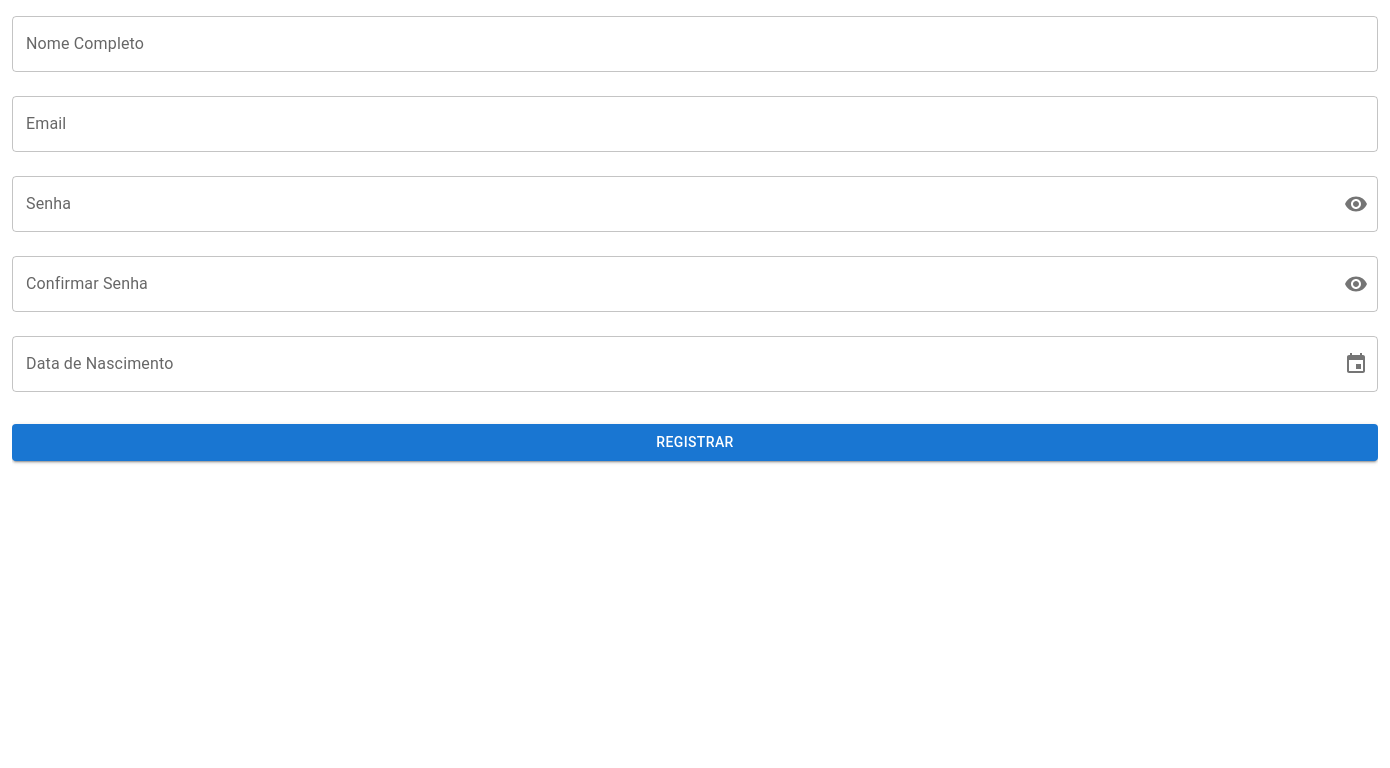
Test: RegisterForm › shows required error when email is empty
Clear the field labelled "Email" at (695, 124), box [12,96,1378,152]
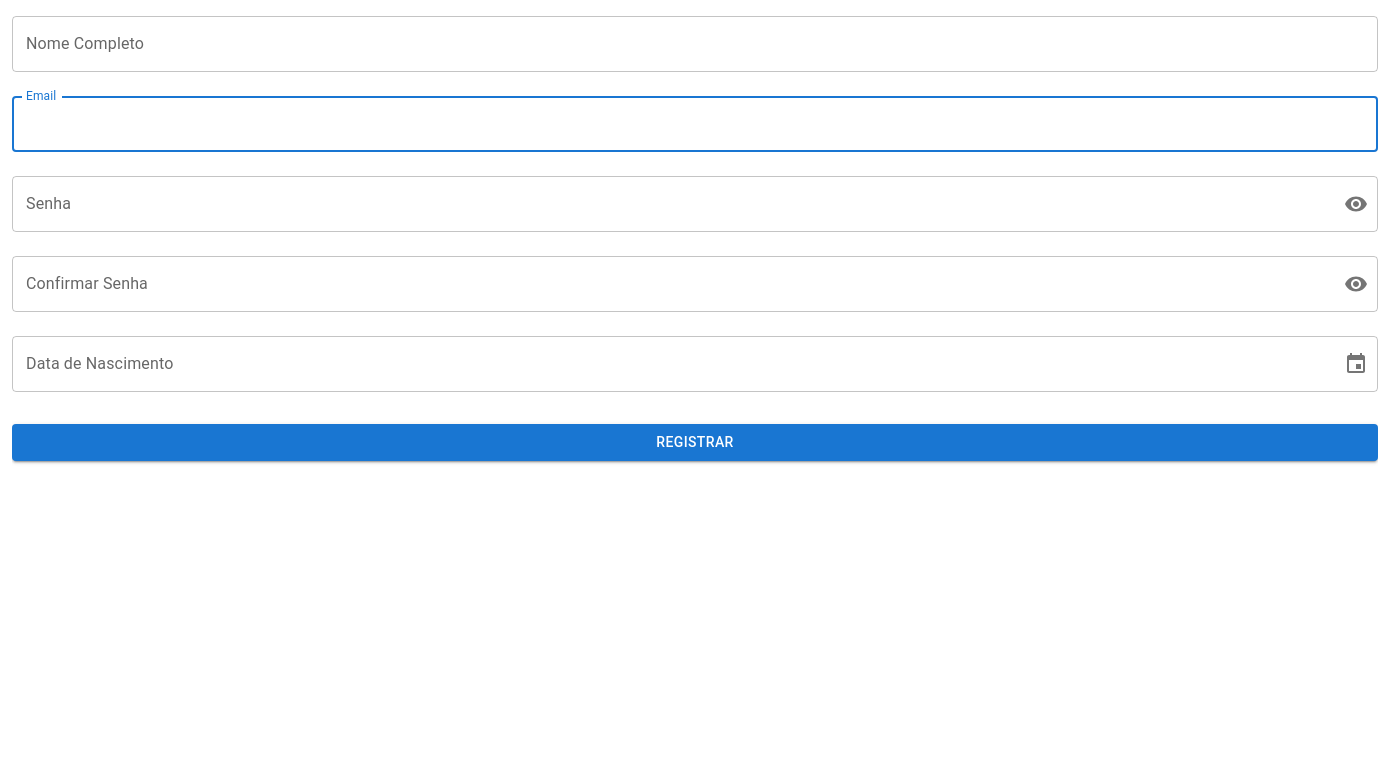
Click the button "Registrar".
click(695, 442)  # box [12,424,1378,460]
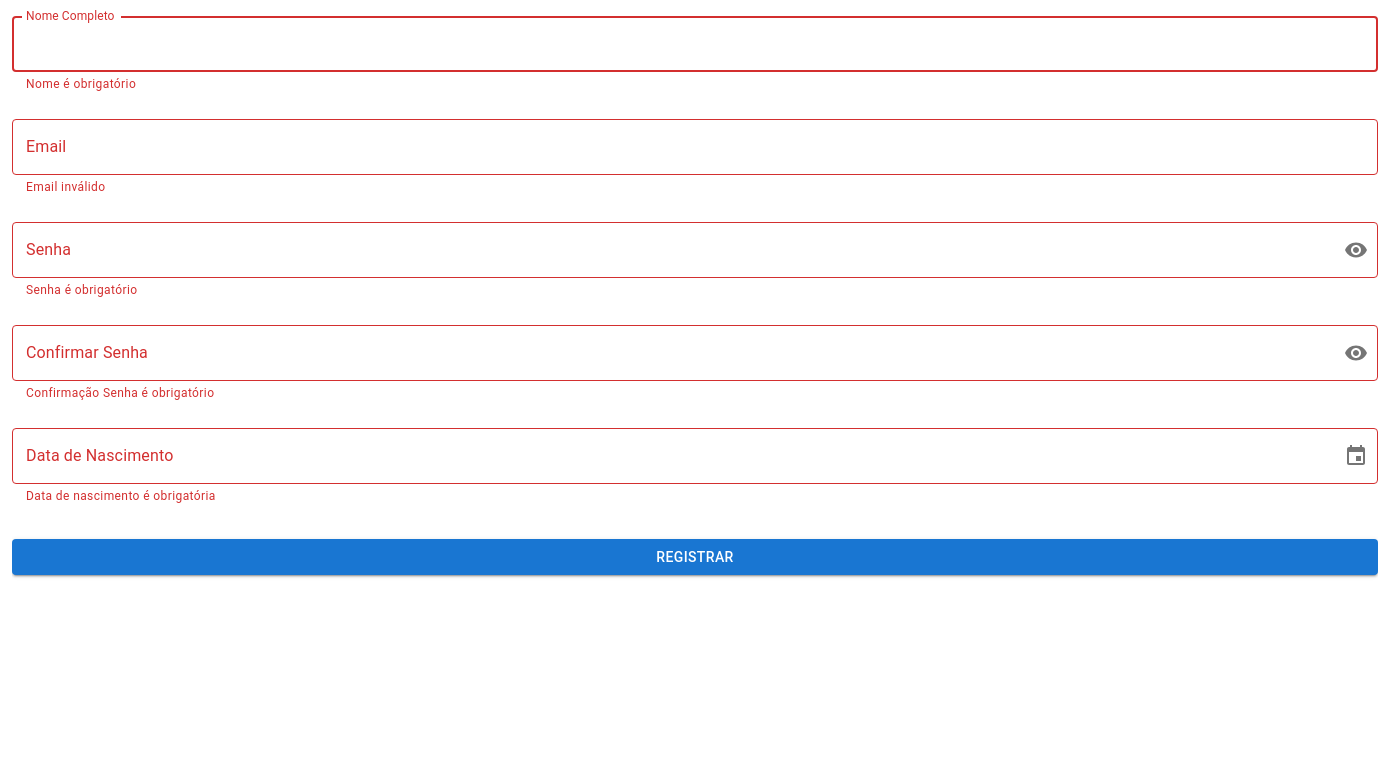
Check: the text "Email inválido" is shown, box [26,180,106,194]
